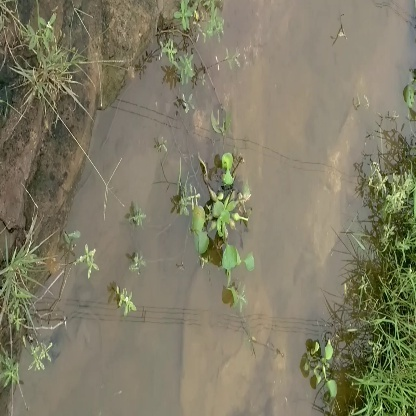leaf: (183, 153, 266, 278)
